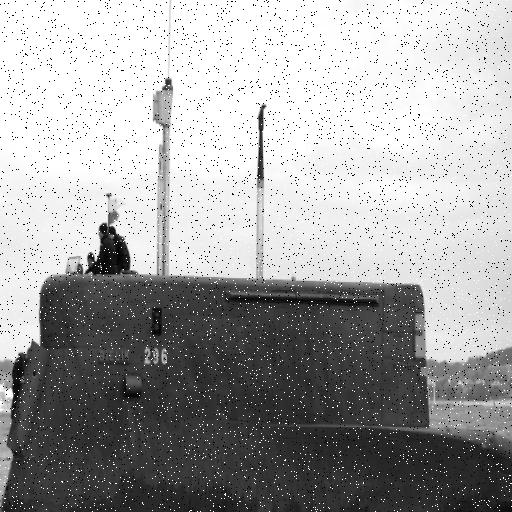submarine: (1, 267, 512, 512)
